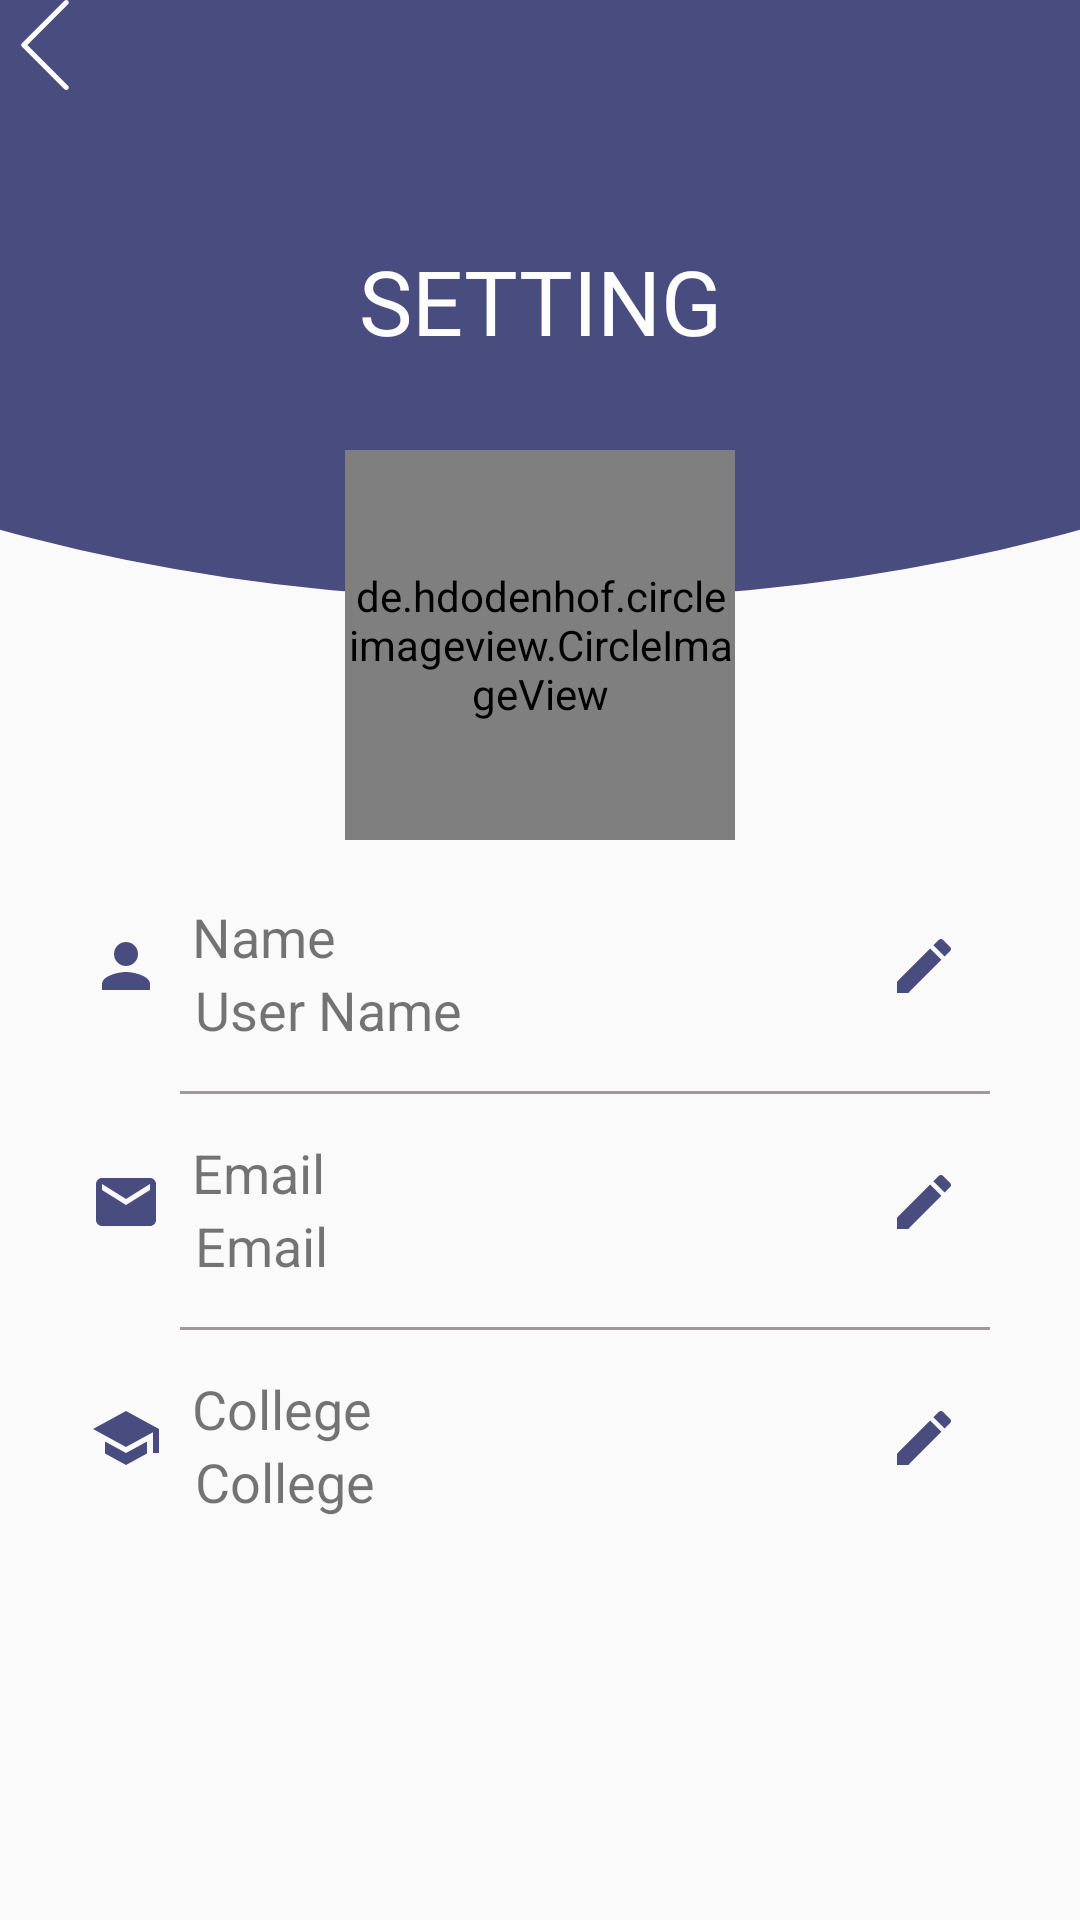

Where icons sit on this 1080x1920 app screen, as box(x1, y1, x2, y2):
mode edit: box(897, 939, 951, 993), box(897, 1175, 951, 1229), box(897, 1411, 951, 1465)
person: box(102, 942, 150, 990)
school: box(93, 1411, 159, 1465)
